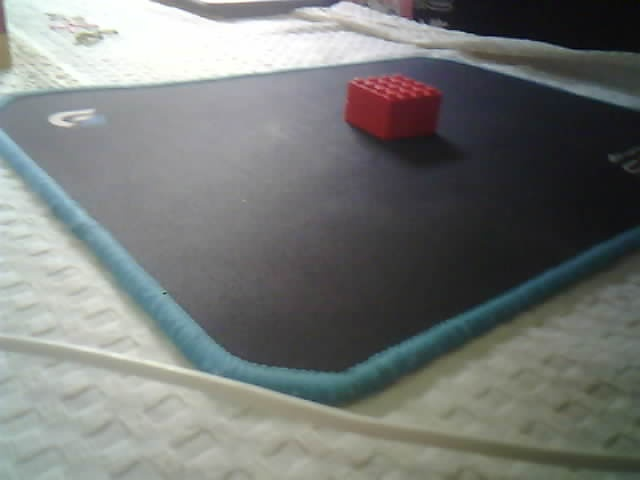lego: (343, 73, 443, 143)
